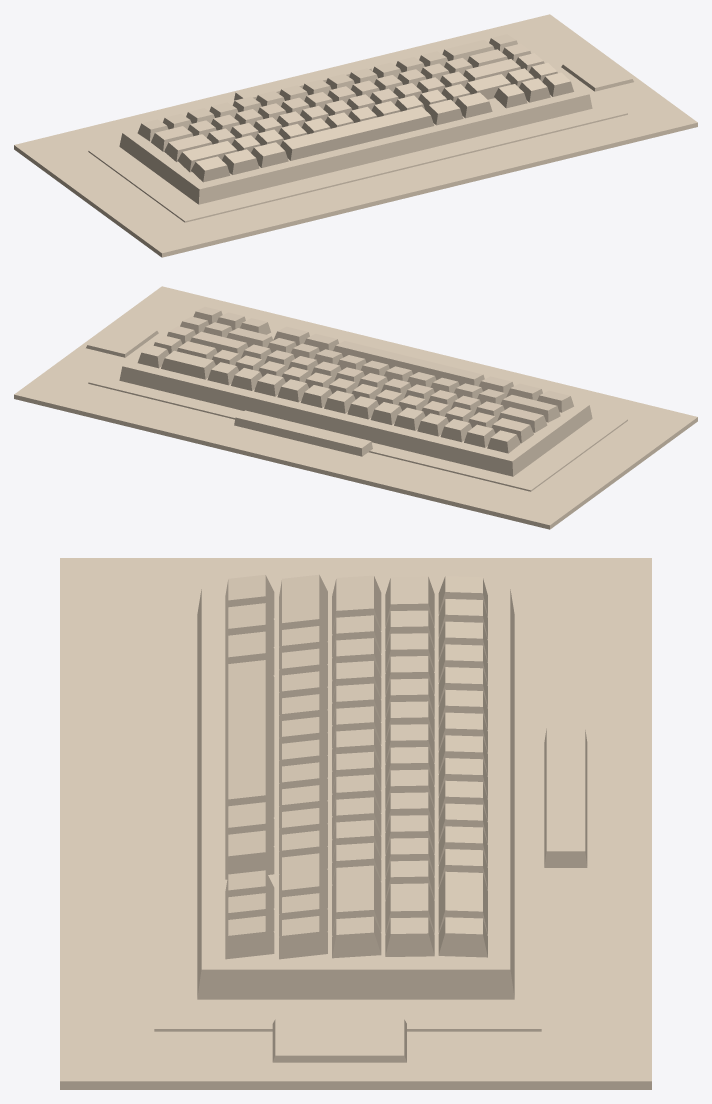
Rendered from keyboard_65_a3d1cc4d.glb.
The picture shows the model from 3 angles, top to bottom: view 1: azimuth 30°, elevation 25°; view 2: azimuth 150°, elevation 25°; view 3: azimuth 270°, elevation 25°; orthographic projection. The views are drawn at different scales.
Visible parts, largest first — view 1: desk; view 2: desk; view 3: desk.
Part boxes in pixels (left/top/right/bottom): desk: left=14, top=14, right=697, bottom=257; desk: left=14, top=286, right=697, bottom=529; desk: left=60, top=558, right=651, bottom=1089.
Bounding box in the file's own units: 23 × 1.54 × 11.
